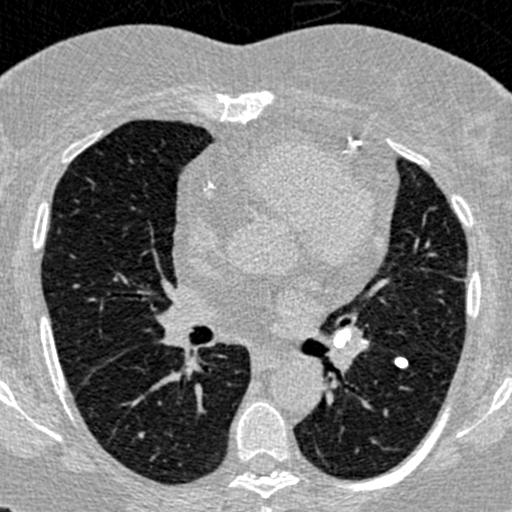nodule: (393, 354, 410, 371)
